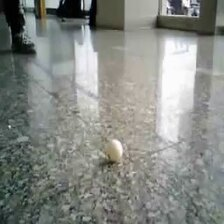w: (106, 139, 123, 160)
